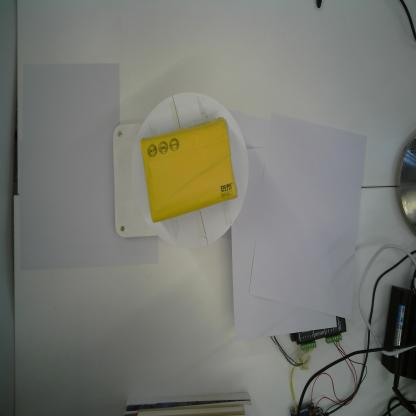Tissue: (138, 117, 239, 225)
